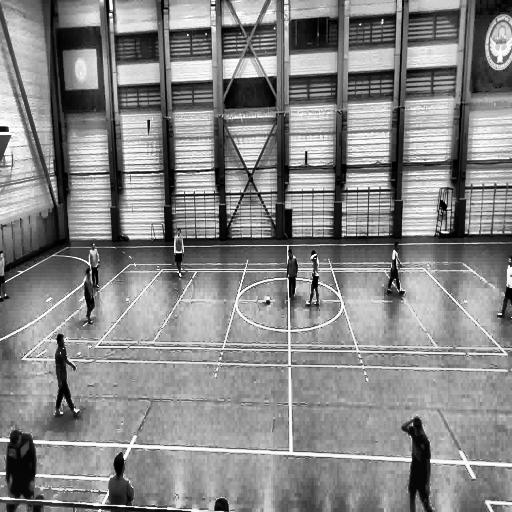ball: (264, 295, 272, 305)
player: (400, 415, 433, 512), (6, 432, 36, 508), (54, 333, 80, 417), (496, 249, 511, 322), (384, 240, 403, 296), (306, 250, 320, 308), (88, 239, 102, 292), (285, 248, 297, 302), (84, 268, 95, 324), (173, 228, 185, 277), (0, 249, 10, 301)
